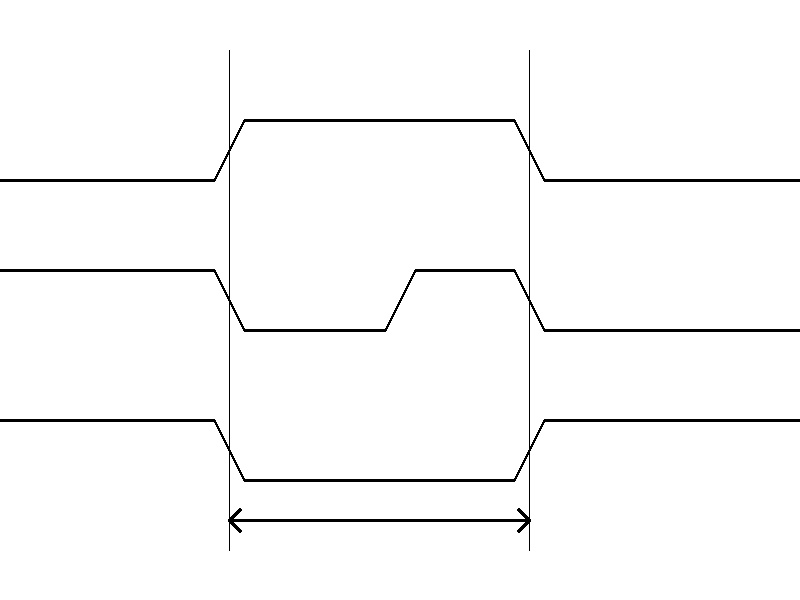double_arrow: (229, 505, 529, 535)
